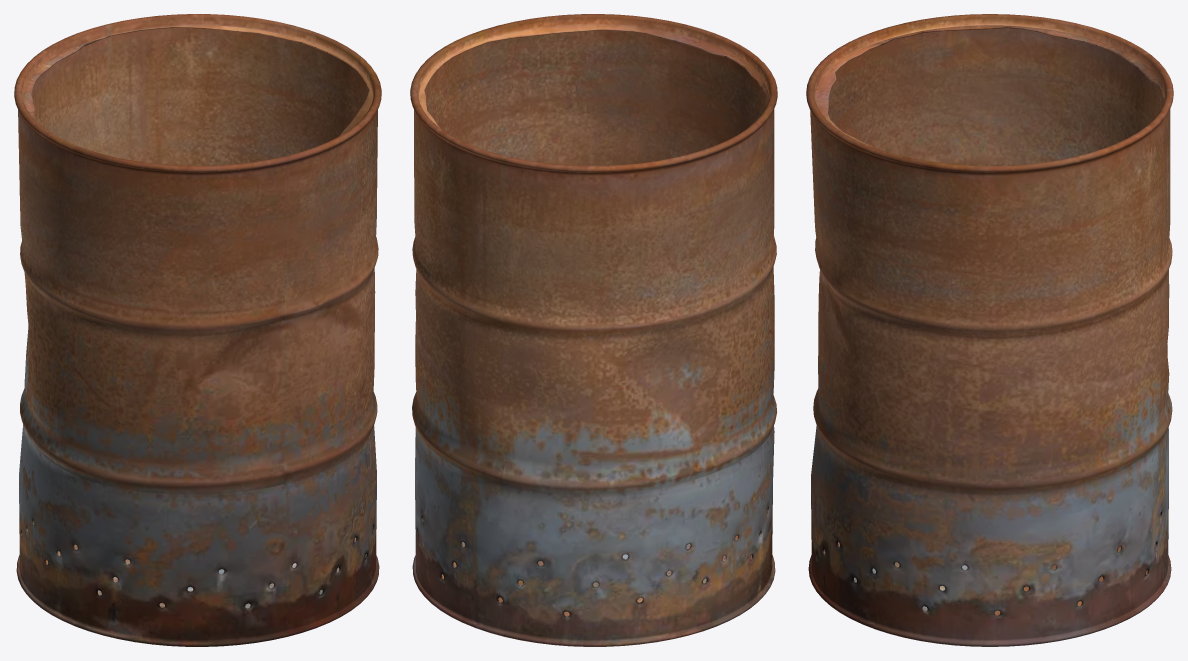
The model's file is barrel_stove.glb.
The picture shows the model from 3 angles, left to right: view 1: azimuth 30°, elevation 25°; view 2: azimuth 150°, elevation 25°; view 3: azimuth 270°, elevation 25°; orthographic projection.
Parts seen in each view (by area): view 1: barrel_stove; view 2: barrel_stove; view 3: barrel_stove.
Part boxes in pixels (x1=…): barrel_stove: x1=14, y1=14, x2=381, y2=646; barrel_stove: x1=410, y1=14, x2=777, y2=646; barrel_stove: x1=806, y1=14, x2=1173, y2=646.
Bounding box in the file's own units: 0.5926 × 0.8556 × 0.5926.
1 material, 1 textured.
